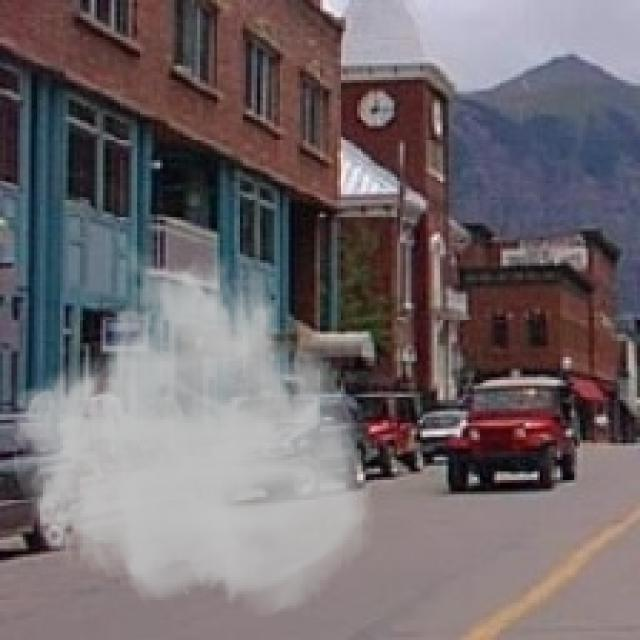Smoke: (9, 243, 378, 620)
